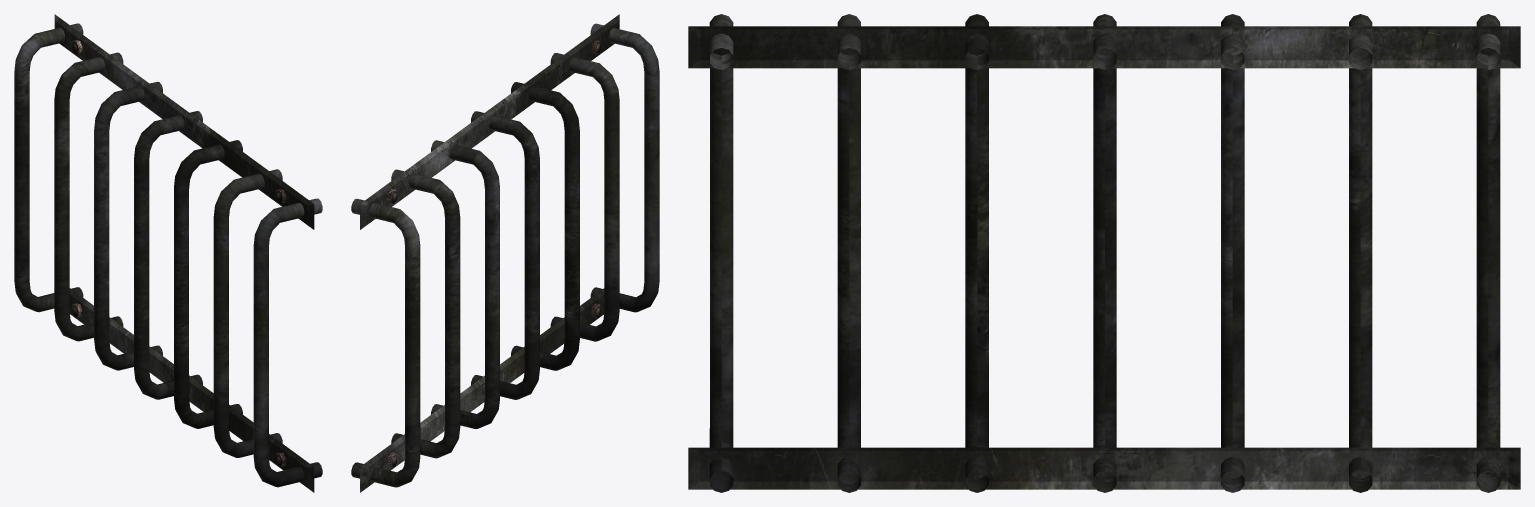
File: Metal_Bar_Small.fbx
3 renders of one model, left to right at view 1: azimuth 30°, elevation 25°; view 2: azimuth 150°, elevation 25°; view 3: azimuth 270°, elevation 25°, orthographic. The views are drawn at different scales.
Visible parts, largest first — view 1: Metal_Bar_Small; view 2: Metal_Bar_Small; view 3: Metal_Bar_Small.
Part boxes in pixels (<box>): Metal_Bar_Small: <box>14,14,322,492</box>; Metal_Bar_Small: <box>351,14,659,492</box>; Metal_Bar_Small: <box>688,14,1520,492</box>.
Bounding box in the file's own units: 0.1848 × 0.7926 × 1.29.
